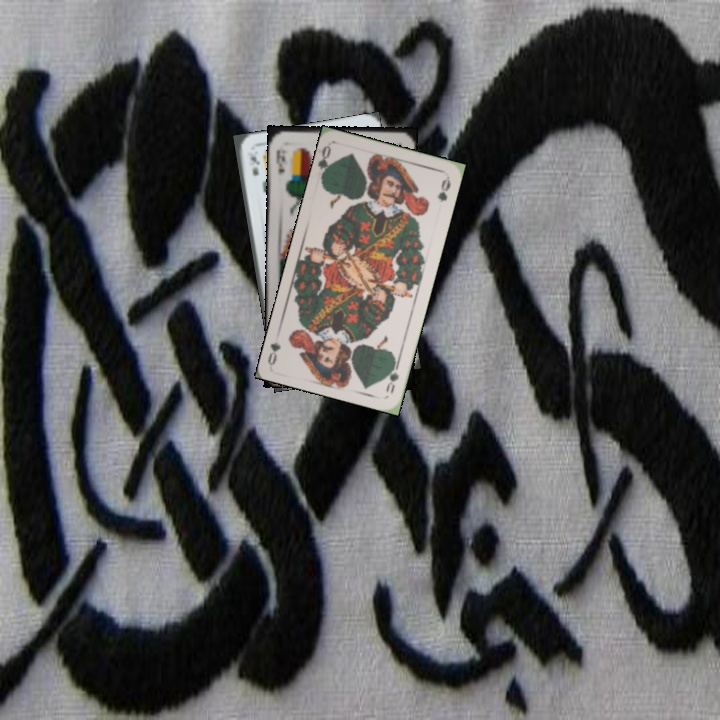EK: (271, 146, 287, 177), (244, 151, 261, 178)
GO: (315, 142, 336, 183), (382, 356, 402, 396)
